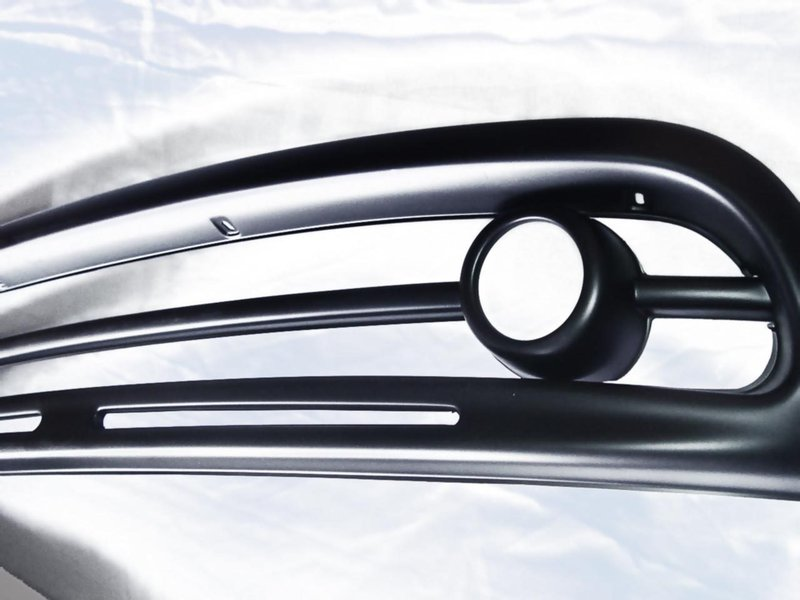front_view: (119, 33, 243, 89)
headlight: (126, 37, 173, 58)
side_glass: (31, 12, 95, 37)
